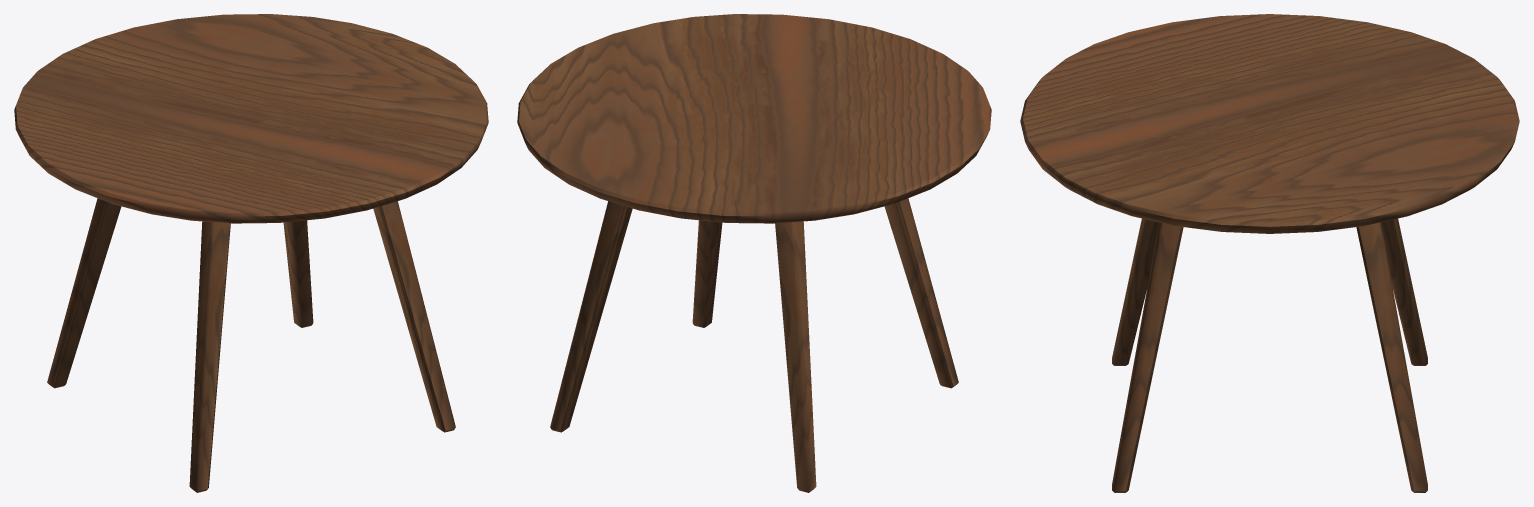
The model's file is Table4.obj.
The picture shows the model from 3 angles, left to right: view 1: azimuth 30°, elevation 25°; view 2: azimuth 150°, elevation 25°; view 3: azimuth 270°, elevation 25°; orthographic projection. The views are drawn at different scales.
Visible parts, largest first — view 1: Cube.035; view 2: Cube.035; view 3: Cube.035.
Part boxes in pixels (box(x1,y1,x2,y2)): Cube.035: box(14, 14, 488, 492); Cube.035: box(517, 14, 991, 492); Cube.035: box(1020, 14, 1519, 492).
Size of the model in its own units: 1.02 by 0.6922 by 1.02.
